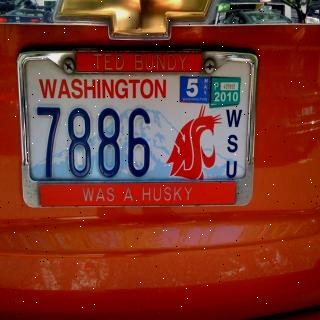license: (17, 49, 259, 207)
